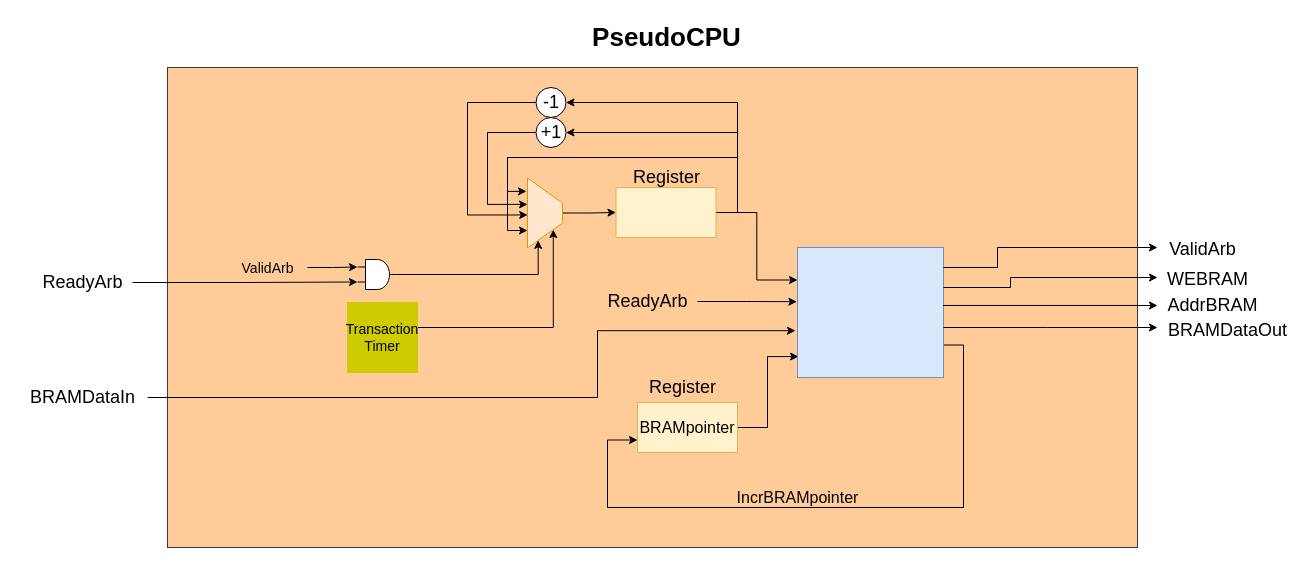
Image size: 1314x565. Some labels were removed from this diagram. The shapes that lost their labels are listed below. From the top down, each one's centre as x and y in pixels, then its label:
At (x=665, y=212): "NumOfTrans".
At (x=870, y=312): "FSM".
